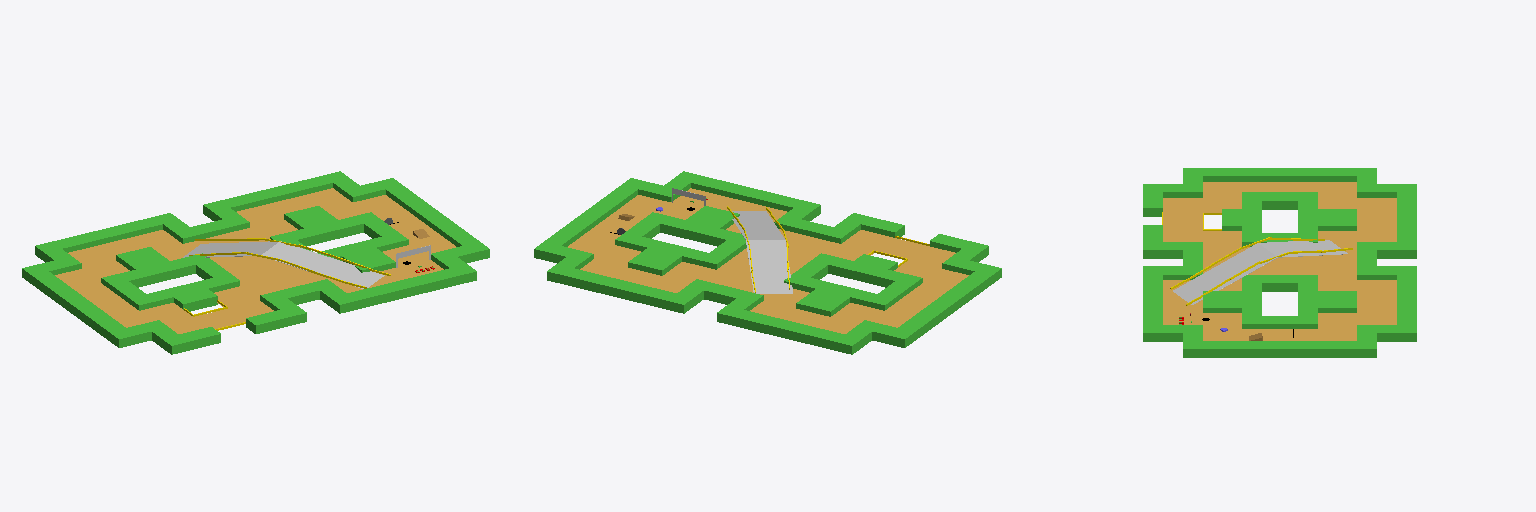
Rendered from SceneExport.obj.
3 renders of one model, left to right at view 1: azimuth 30°, elevation 25°; view 2: azimuth 150°, elevation 25°; view 3: azimuth 270°, elevation 25°, orthographic.
Visible parts, largest first — view 1: Ramp, Track(20x20) (24), Track(20x20) (79), Track(20x20) (14), Track(20x20) (66), Track(20x20) (62), Track(20x20) (70), Track(20x20) (41), Track(20x20) (83), Track(20x20) (55), Track(20x20) (91); view 2: Ramp, Track(20x20) (61), Track(20x20) (40), Track(20x20) (54), Track(20x20) (82), Track(20x20) (11), Track(20x20) (70), Track(20x20) (78), Track(20x20) (23), Track(20x20) (88); view 3: Ramp, Track(20x20) (41), Track(20x20) (83), Track(20x20) (23), Track(20x20) (91), Track(20x20) (48), Track(20x20) (70), Track(20x20) (32), Track(20x20) (78), Track(20x20) (20), Track(20x20) (62), Track(20x20) (75) (+1 smaller).
Part boxes in pixels (left/top/right/bottom): Ramp: left=183, top=229, right=429, bottom=288; Track(20x20) (24): left=299, top=188, right=352, bottom=209; Track(20x20) (79): left=140, top=303, right=192, bottom=323; Track(20x20) (14): left=353, top=195, right=403, bottom=215; Track(20x20) (66): left=131, top=230, right=181, bottom=250; Track(20x20) (62): left=214, top=286, right=259, bottom=307; Track(20x20) (70): left=194, top=309, right=243, bottom=328; Track(20x20) (41): left=237, top=205, right=283, bottom=227; Track(20x20) (83): left=68, top=246, right=115, bottom=268; Track(20x20) (55): left=228, top=264, right=271, bottom=285; Track(20x20) (91): left=55, top=269, right=100, bottom=289; Ramp: left=618, top=211, right=792, bottom=293; Track(20x20) (61): left=842, top=230, right=892, bottom=251; Track(20x20) (40): left=663, top=262, right=715, bottom=282; Track(20x20) (54): left=788, top=236, right=839, bottom=256; Track(20x20) (82): left=831, top=303, right=882, bottom=323; Track(20x20) (11): left=620, top=195, right=671, bottom=214; Track(20x20) (70): left=878, top=238, right=926, bottom=259; Track(20x20) (78): left=908, top=246, right=955, bottom=268; Track(20x20) (23): left=596, top=245, right=640, bottom=267; Track(20x20) (88): left=923, top=269, right=968, bottom=289; Ramp: left=1173, top=240, right=1347, bottom=340; Track(20x20) (41): left=1357, top=280, right=1396, bottom=296; Track(20x20) (83): left=1357, top=198, right=1396, bottom=214; Track(20x20) (23): left=1318, top=313, right=1356, bottom=329; Track(20x20) (91): left=1318, top=182, right=1356, bottom=198; Track(20x20) (48): left=1318, top=263, right=1356, bottom=279; Track(20x20) (70): left=1163, top=214, right=1202, bottom=229; Track(20x20) (32): left=1357, top=297, right=1396, bottom=312; Track(20x20) (78): left=1163, top=198, right=1202, bottom=213; Track(20x20) (20): left=1203, top=313, right=1241, bottom=329; Track(20x20) (62): left=1203, top=231, right=1241, bottom=246; Track(20x20) (75): left=1357, top=215, right=1396, bottom=230.
Bounding box in the file's own units: 216 × 13 × 138.